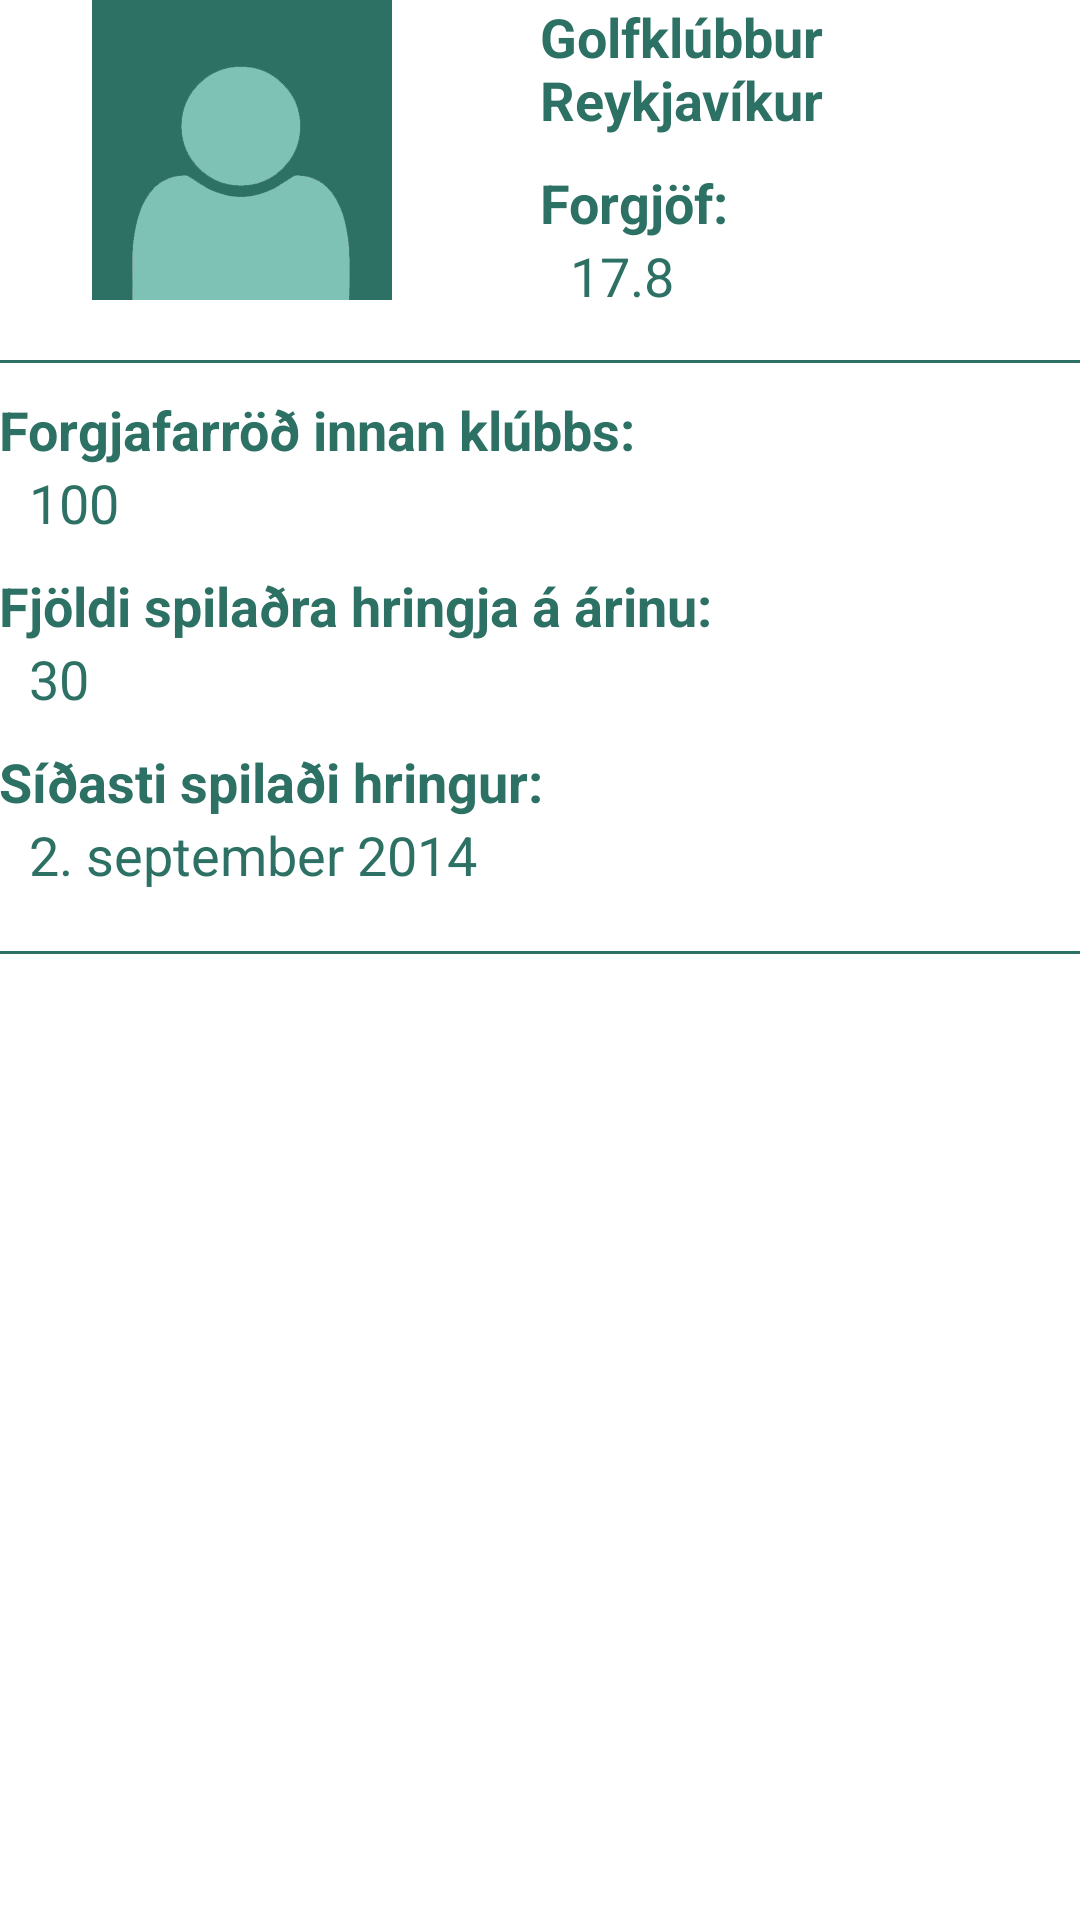

Where to tap for icons on this 1080px×1920px app screen, as [x,y]:
user: [242,150]
